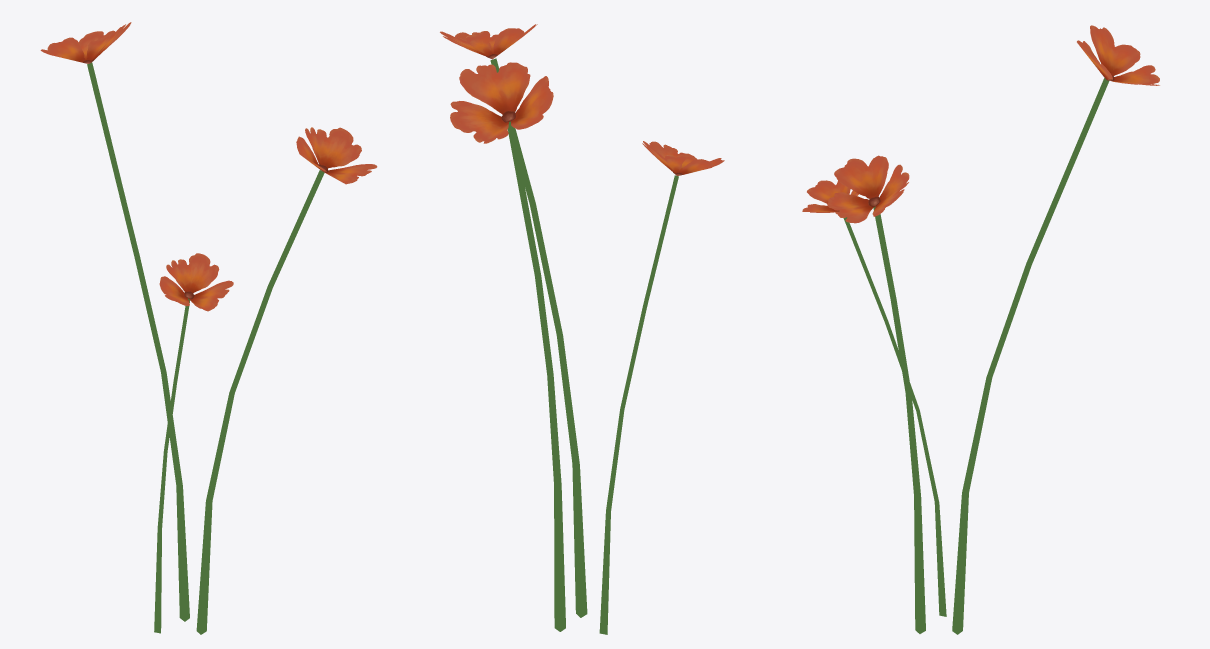
File: SM_Flower_08_01.fbx
3 renders of one model, left to right at view 1: azimuth 30°, elevation 25°; view 2: azimuth 150°, elevation 25°; view 3: azimuth 270°, elevation 25°, orthographic. The views are drawn at different scales.
Parts seen in each view (by area): view 1: SM_Flower_08_01_LOD0; view 2: SM_Flower_08_01_LOD0; view 3: SM_Flower_08_01_LOD0.
Boxes of the visible parts, x1,y1,x2,y2 form: SM_Flower_08_01_LOD0: (40, 22, 377, 634); SM_Flower_08_01_LOD0: (440, 24, 724, 634); SM_Flower_08_01_LOD0: (802, 25, 1159, 634).
Size of what is drawn, in the model's own units: 28.66 by 58.5 by 37.04.
